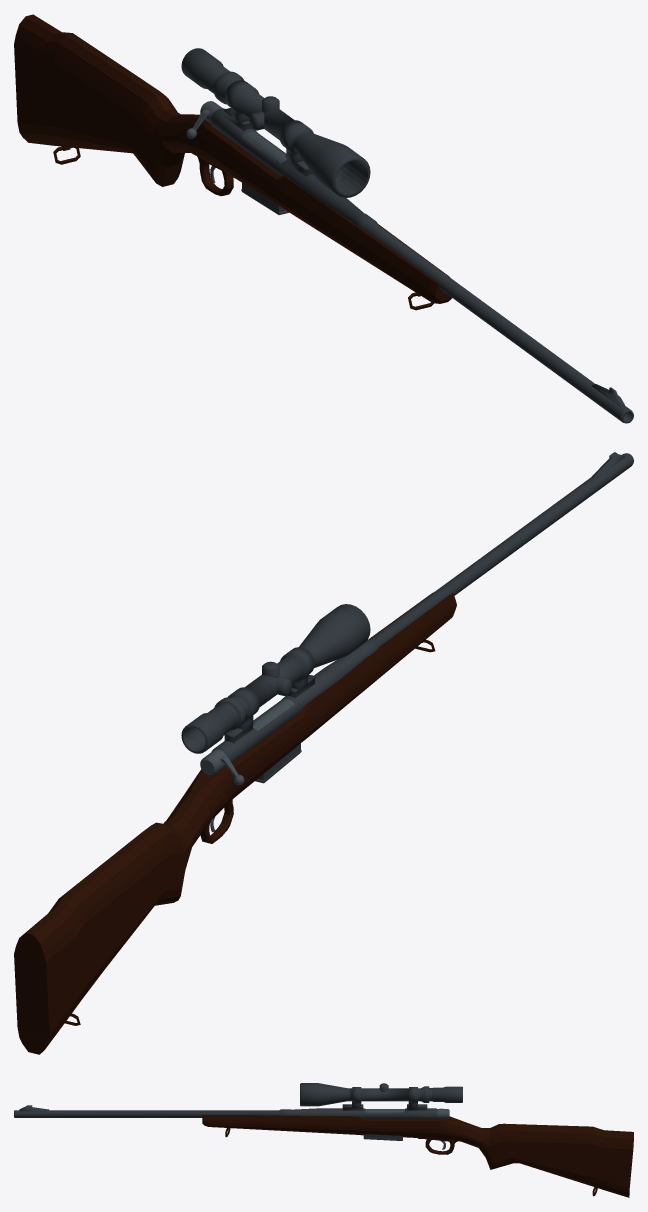
The picture shows the model from 3 angles, top to bottom: view 1: azimuth 30°, elevation 25°; view 2: azimuth 150°, elevation 25°; view 3: azimuth 270°, elevation 25°; orthographic projection. The views are drawn at different scales.
Visible parts, largest first — view 1: r700; view 2: r700; view 3: r700.
Part boxes in pixels (x1,y1,x2,y2): r700: (14, 14, 633, 423); r700: (14, 452, 633, 1054); r700: (14, 1083, 633, 1197).
Size of the model in its own units: 0.0493 by 0.214 by 1.07.
6 materials, 6 textured.
